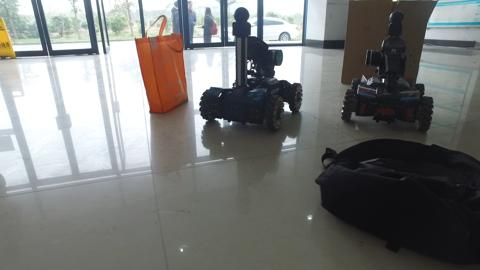bag: (138, 14, 189, 110)
chariot: (198, 9, 305, 128), (337, 8, 439, 129)
